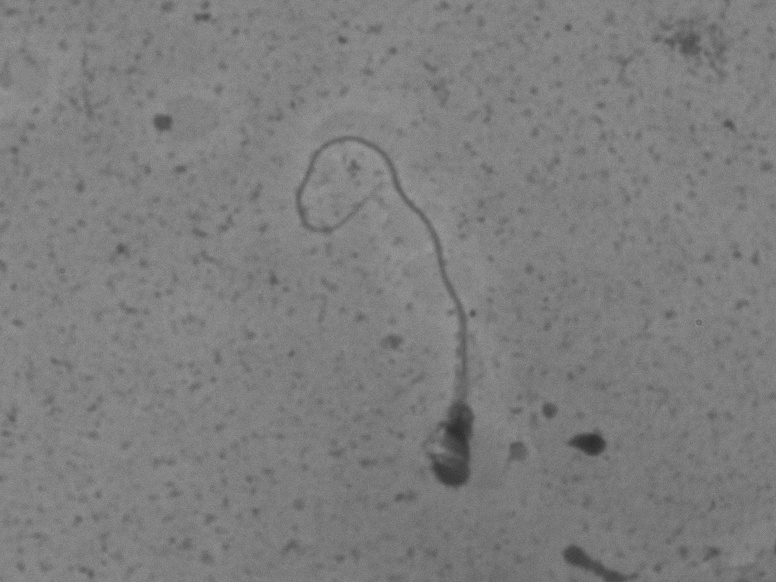Abnormal: (259, 107, 533, 518)
